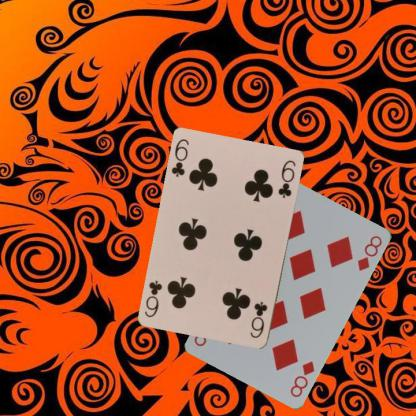6c: (247, 299, 270, 340), (169, 136, 190, 178)
8d: (287, 358, 316, 398)
